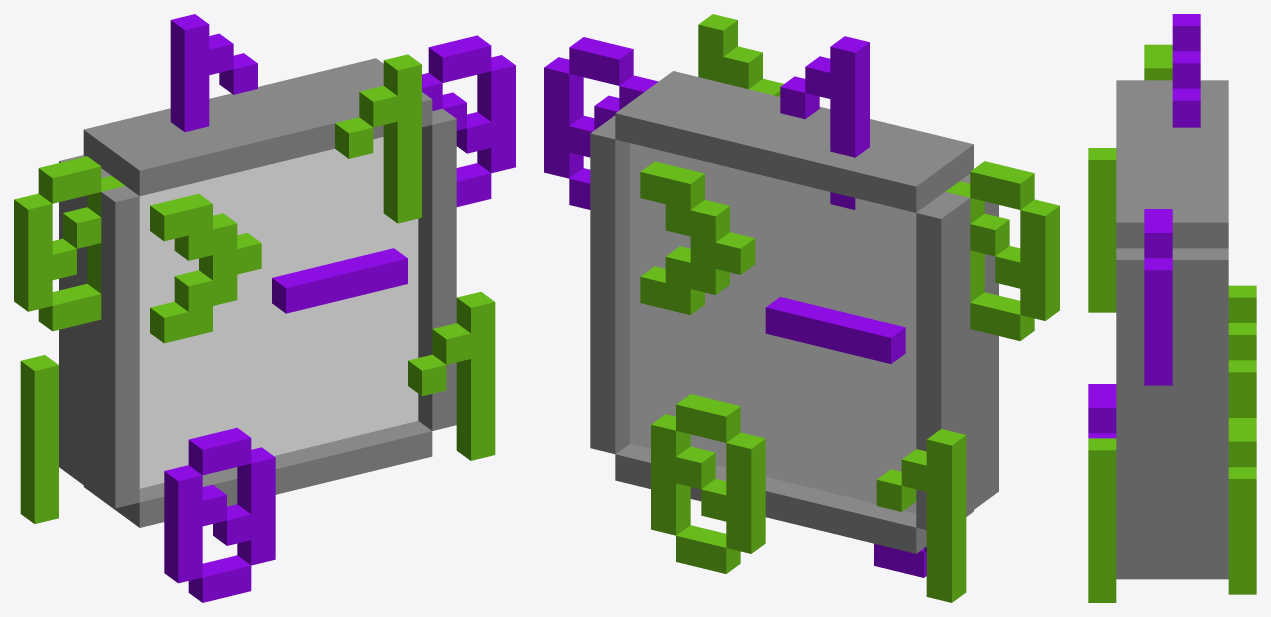
The model's file is GORODITH_collectible.obj.
The picture shows the model from 3 angles, left to right: view 1: azimuth 30°, elevation 25°; view 2: azimuth 150°, elevation 25°; view 3: azimuth 270°, elevation 25°; orthographic projection. The views are drawn at different scales.
Bounding box in the file's own units: 2 × 2.1 × 0.6.
1 material, 1 textured.
